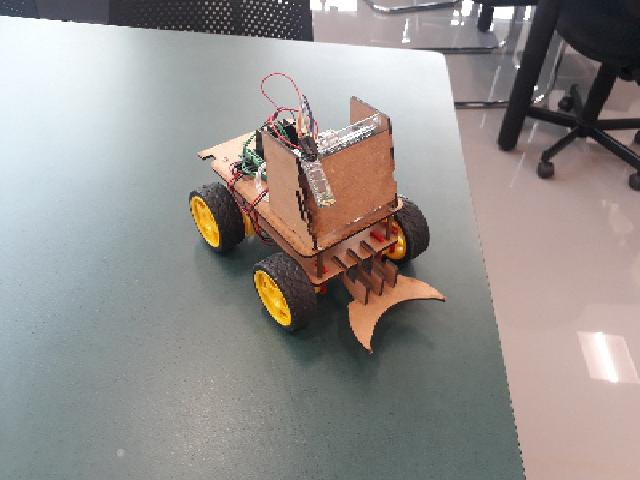Robot: (186, 94, 446, 355)
